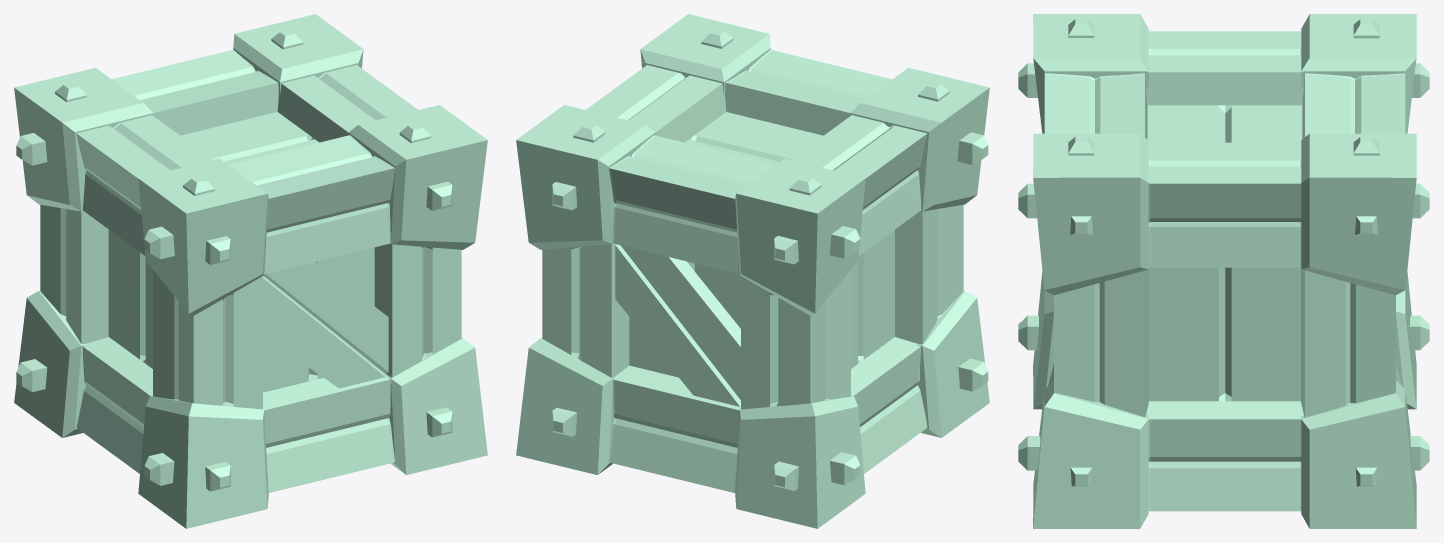
Rendered from L_Kanti Box.fbx.
3 views of the same model, side by side, from view 1: azimuth 30°, elevation 25°; view 2: azimuth 150°, elevation 25°; view 3: azimuth 270°, elevation 25° (orthographic). The views are drawn at different scales.
Visible parts, largest first — view 1: Kantibody.006; view 2: Kantibody.006; view 3: Kantibody.006.
Boxes of the visible parts, box(x1,y1,x2,y2) form: Kantibody.006: box(14, 14, 487, 528); Kantibody.006: box(516, 14, 989, 528); Kantibody.006: box(1018, 14, 1429, 528).
Bounding box in the file's own units: 223 × 223 × 223.
